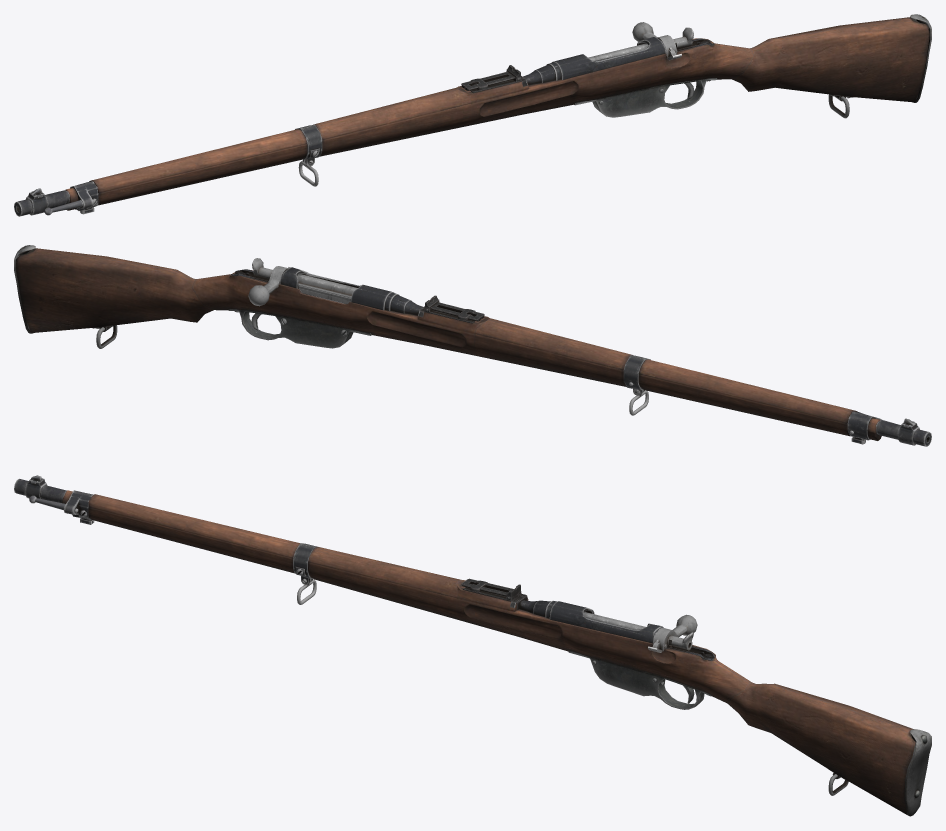
The picture shows the model from 3 angles, top to bottom: view 1: azimuth 30°, elevation 25°; view 2: azimuth 150°, elevation 25°; view 3: azimuth 330°, elevation 25°; orthographic projection.
Parts seen in each view (by area): view 1: Icosphere.004, Icosphere.006, defaultMaterial, Icosphere.008, Icosphere.000, Icosphere.007; view 2: Icosphere.004, defaultMaterial, Icosphere.006, Icosphere.008, Icosphere.000, Icosphere.007; view 3: Icosphere.004, Icosphere.006, defaultMaterial, Icosphere.008, Icosphere.000, Icosphere.007.
Part boxes in pixels (x1,y1,x2,y2): Icosphere.004: (65,14,931,210); Icosphere.006: (14,124,322,216); defaultMaterial: (523,37,666,85); Icosphere.008: (574,78,716,117); Icosphere.000: (632,22,714,60); Icosphere.007: (461,65,527,93); Icosphere.004: (14,245,881,440); defaultMaterial: (279,267,422,315); Icosphere.006: (623,355,931,446); Icosphere.008: (228,309,371,348); Icosphere.000: (231,258,290,306); Icosphere.007: (418,295,484,323); Icosphere.004: (62,490,931,816); Icosphere.006: (14,475,316,604); defaultMaterial: (519,600,663,643); Icosphere.008: (568,650,711,709); Icosphere.000: (648,614,714,660); Icosphere.007: (461,578,527,610).
Bounding box in the file's own units: 2 × 0.2734 × 0.1513.
Materials: 7 (7 with a texture image).
